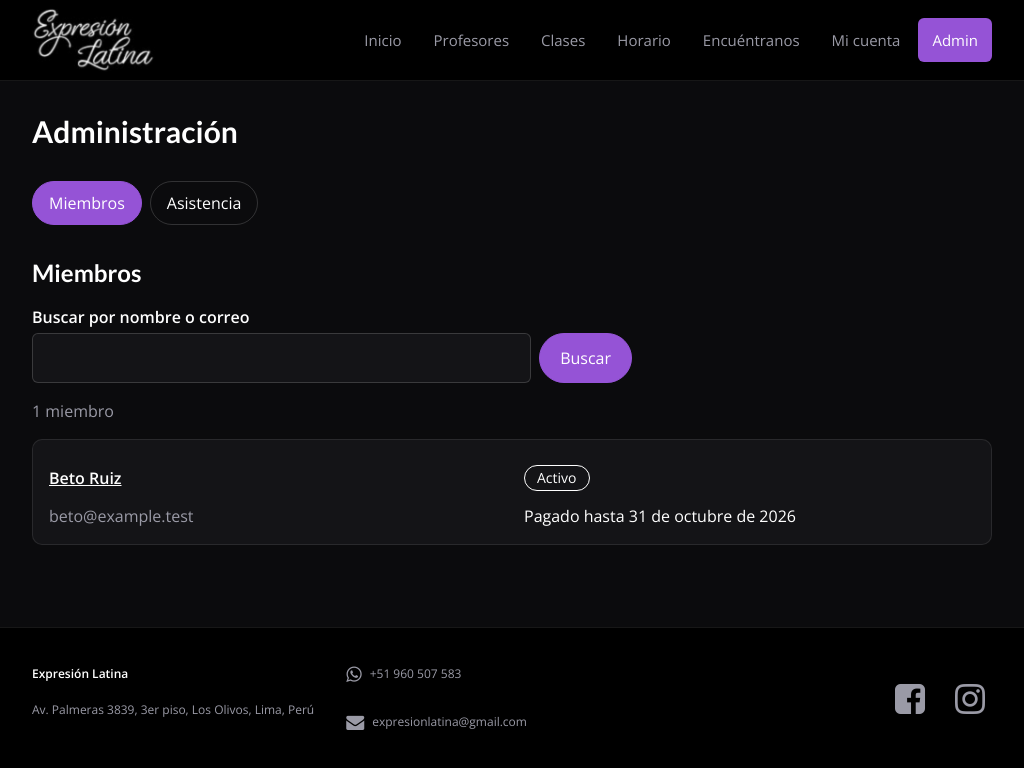
App admin routes › for an administrator › moves from the members page to the attendance page through the sub-navigation
Click the link "Asistencia".
click(204, 203)  # box x1=150 y1=181 x2=258 y2=225
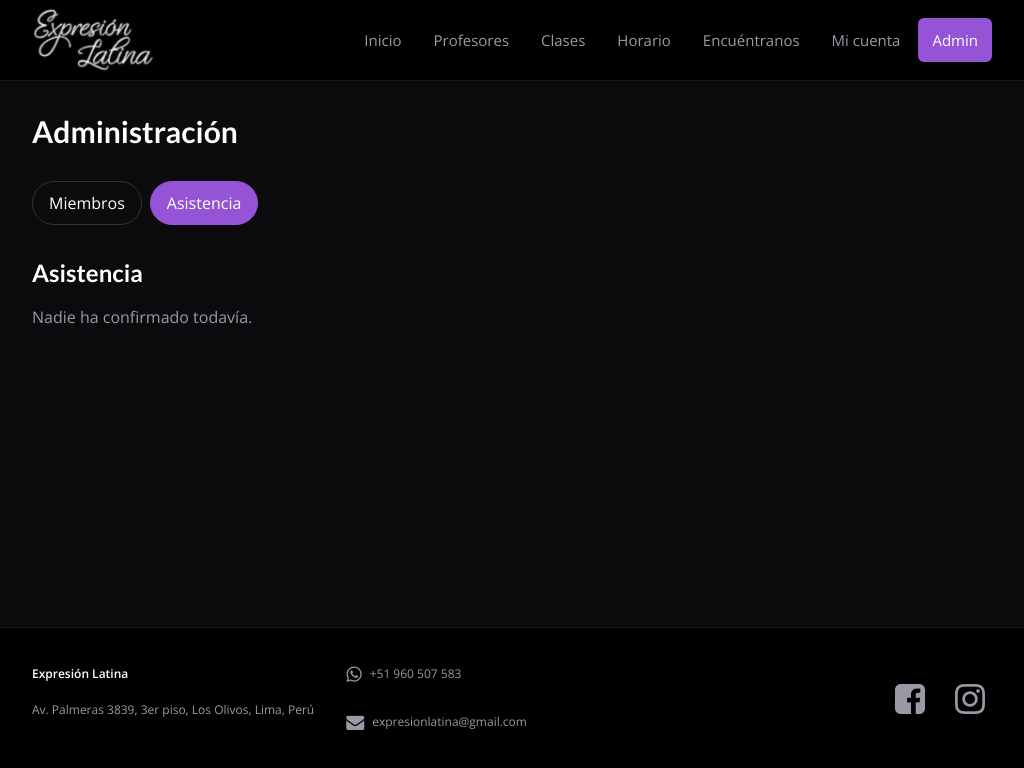
expect the heading "Asistencia" is shown: met, box x1=32 y1=258 x2=143 y2=287
